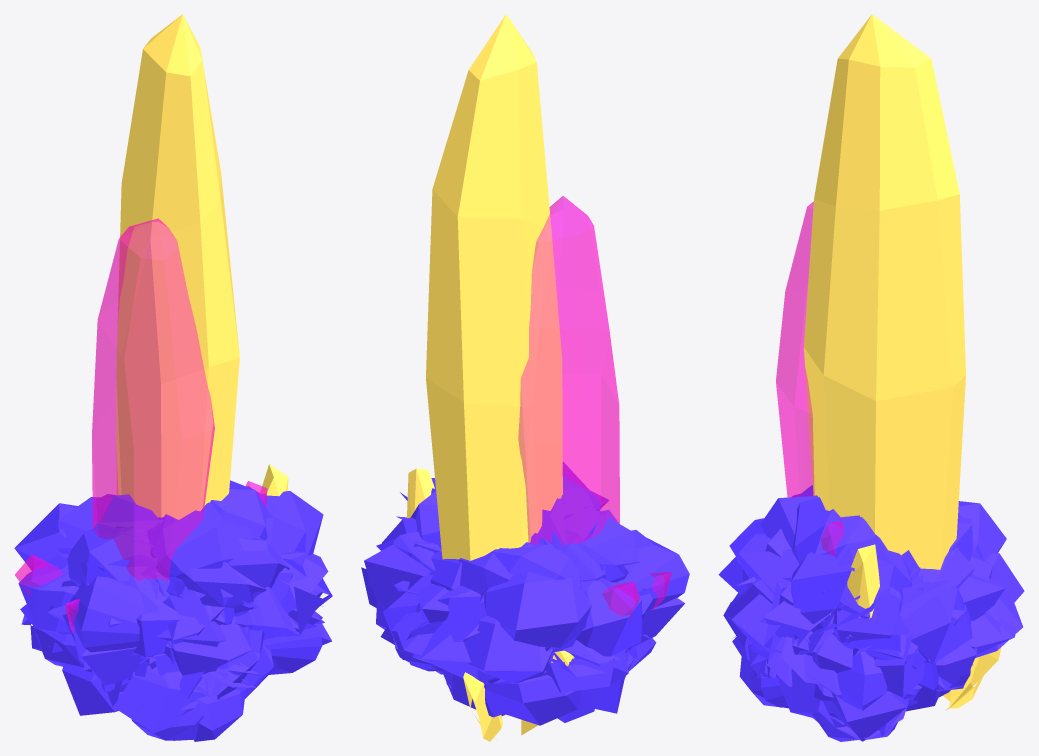
Rendered from XRYSTAL6.gltf.
The picture shows the model from 3 angles, left to right: view 1: azimuth 30°, elevation 25°; view 2: azimuth 150°, elevation 25°; view 3: azimuth 270°, elevation 25°; orthographic projection. The views are drawn at different scales.
Visible parts, largest first — view 1: Circle, Cube.001; view 2: Circle, Cube.001; view 3: Circle, Cube.001.
Boxes of the visible parts, left/top/right/bottom form: Circle: left=15, top=14, right=288, bottom=632; Cube.001: left=14, top=480, right=332, bottom=741; Circle: left=407, top=14, right=671, bottom=741; Cube.001: left=361, top=462, right=689, bottom=725; Circle: left=776, top=14, right=1001, bottom=710; Cube.001: left=718, top=485, right=1024, bottom=741.
Bounding box in the file's own units: 2.12 × 4.89 × 1.91.
